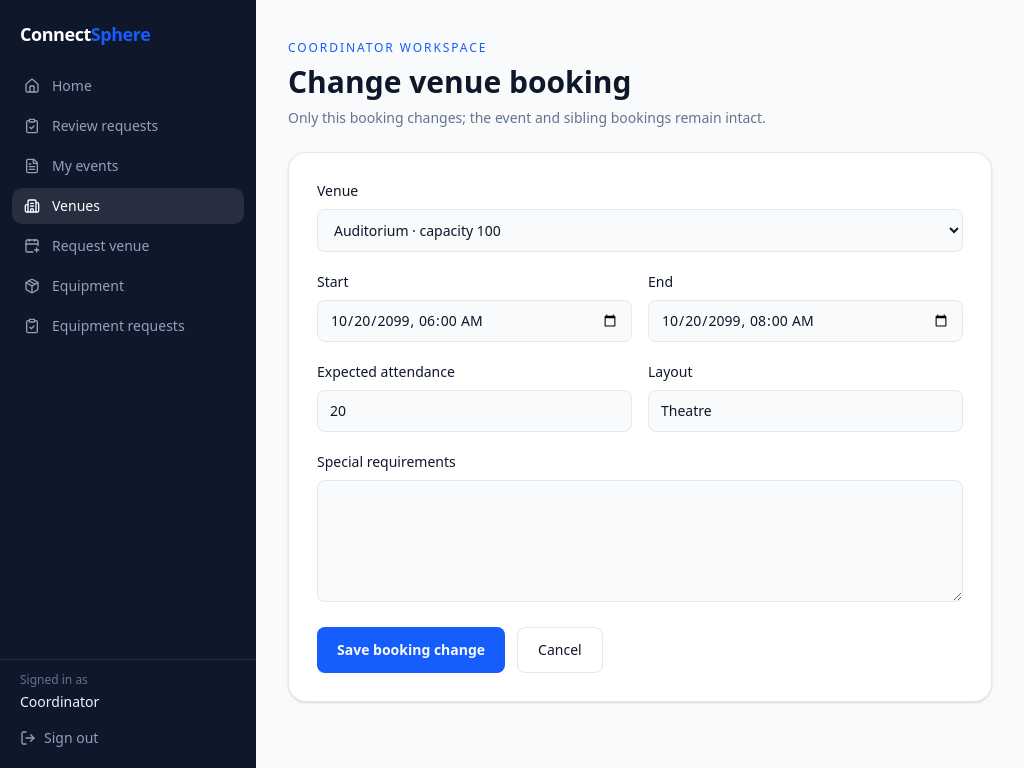
it: refuses invalid Start= before writing
This screenshot has width=1024, height=768.
expect the dropdown labelled "Venue" is shown: met, box [317,209,963,252]
Clear the field labelled "Start" at point(474, 321), box [317,300,632,342]
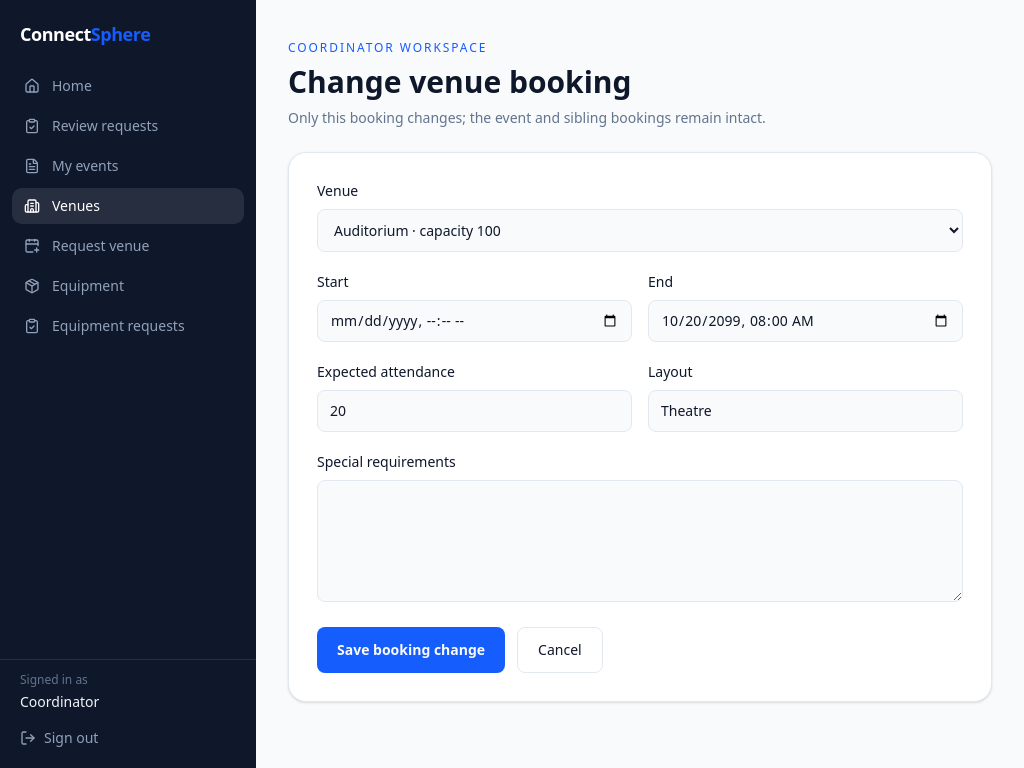
Submit the form, box [288,152,992,702]
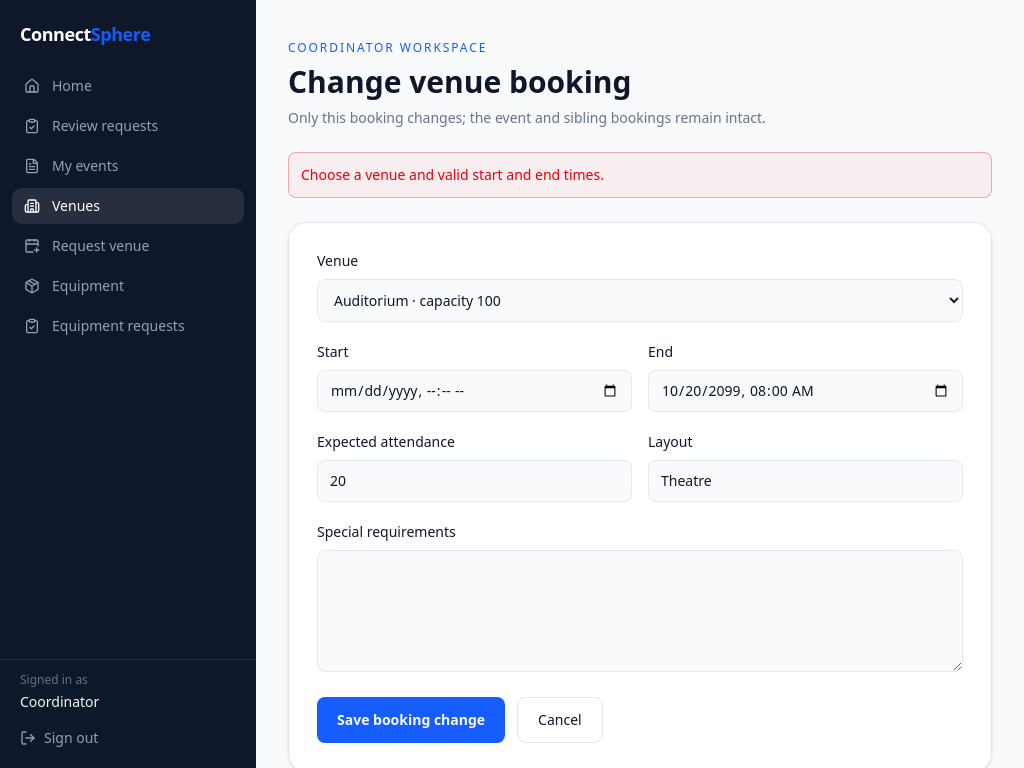
expect the message shows "valid start and end": met, box [301,165,604,184]
